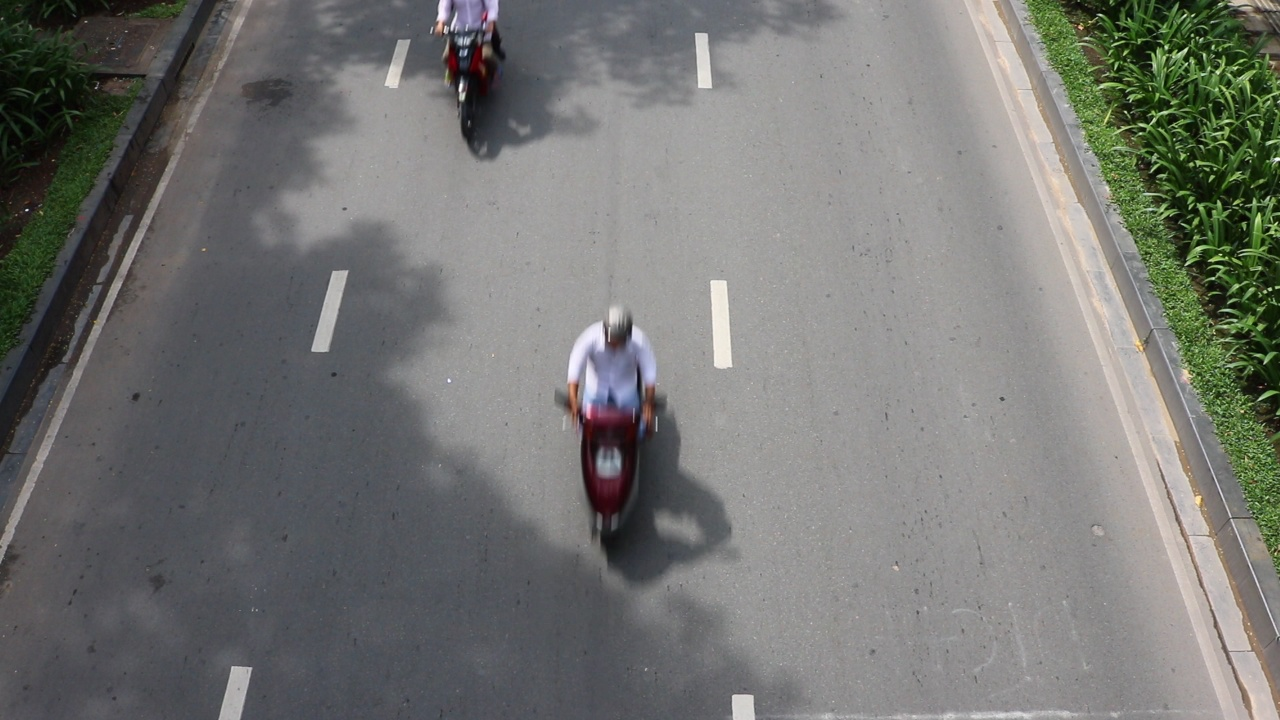motorcycle: (557, 383, 653, 546), (434, 25, 500, 135)
